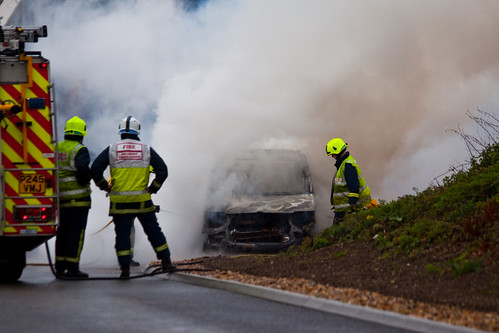car: (208, 146, 321, 260)
firefighter: (100, 114, 168, 286), (58, 109, 90, 278), (324, 134, 373, 221)
smoke: (163, 1, 499, 255)
